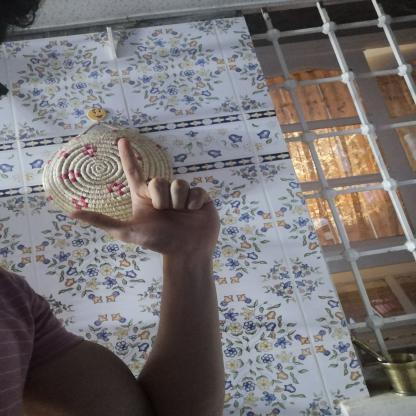LAAM: (53, 128, 233, 262)
